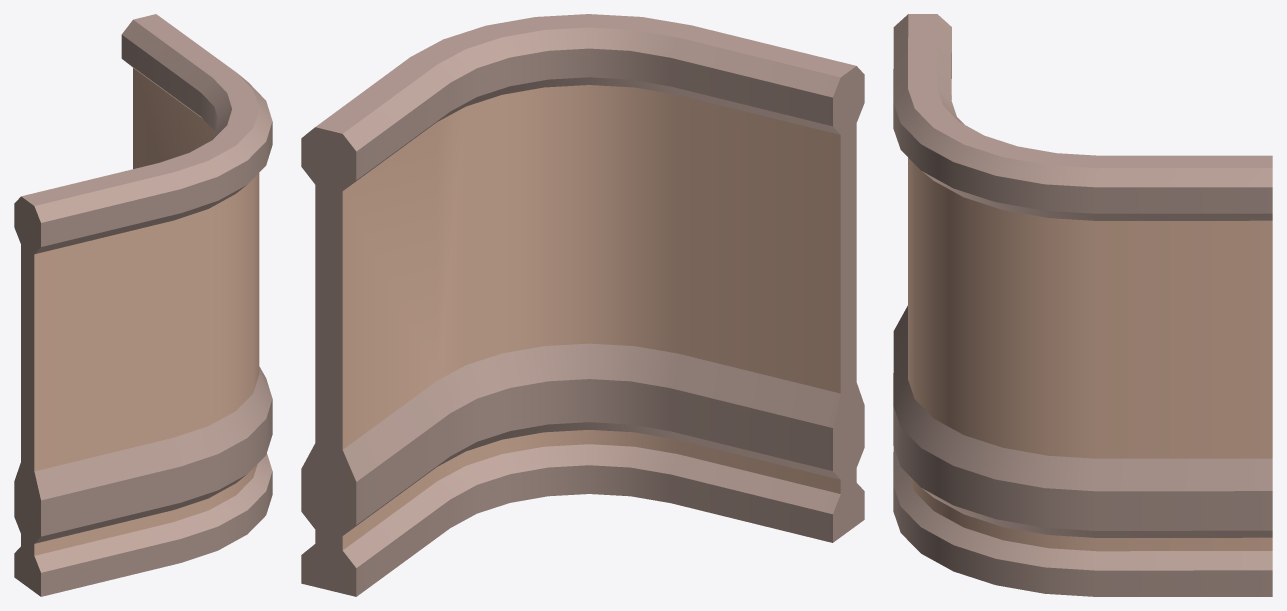
The model's file is Deck_Wall_Corner_snaps002 (2).fbx.
3 views of the same model, side by side, from view 1: azimuth 30°, elevation 25°; view 2: azimuth 150°, elevation 25°; view 3: azimuth 270°, elevation 25° (orthographic). The views are drawn at different scales.
Parts seen in each view (by area): view 1: Deck_Wall_Corner_snaps002__2_; view 2: Deck_Wall_Corner_snaps002__2_; view 3: Deck_Wall_Corner_snaps002__2_.
Boxes of the visible parts, bbox=[...] form: Deck_Wall_Corner_snaps002__2_: bbox=[14, 14, 272, 596]; Deck_Wall_Corner_snaps002__2_: bbox=[301, 14, 864, 596]; Deck_Wall_Corner_snaps002__2_: bbox=[893, 14, 1272, 596].
Size of the model in its own units: 325 by 400 by 325.
